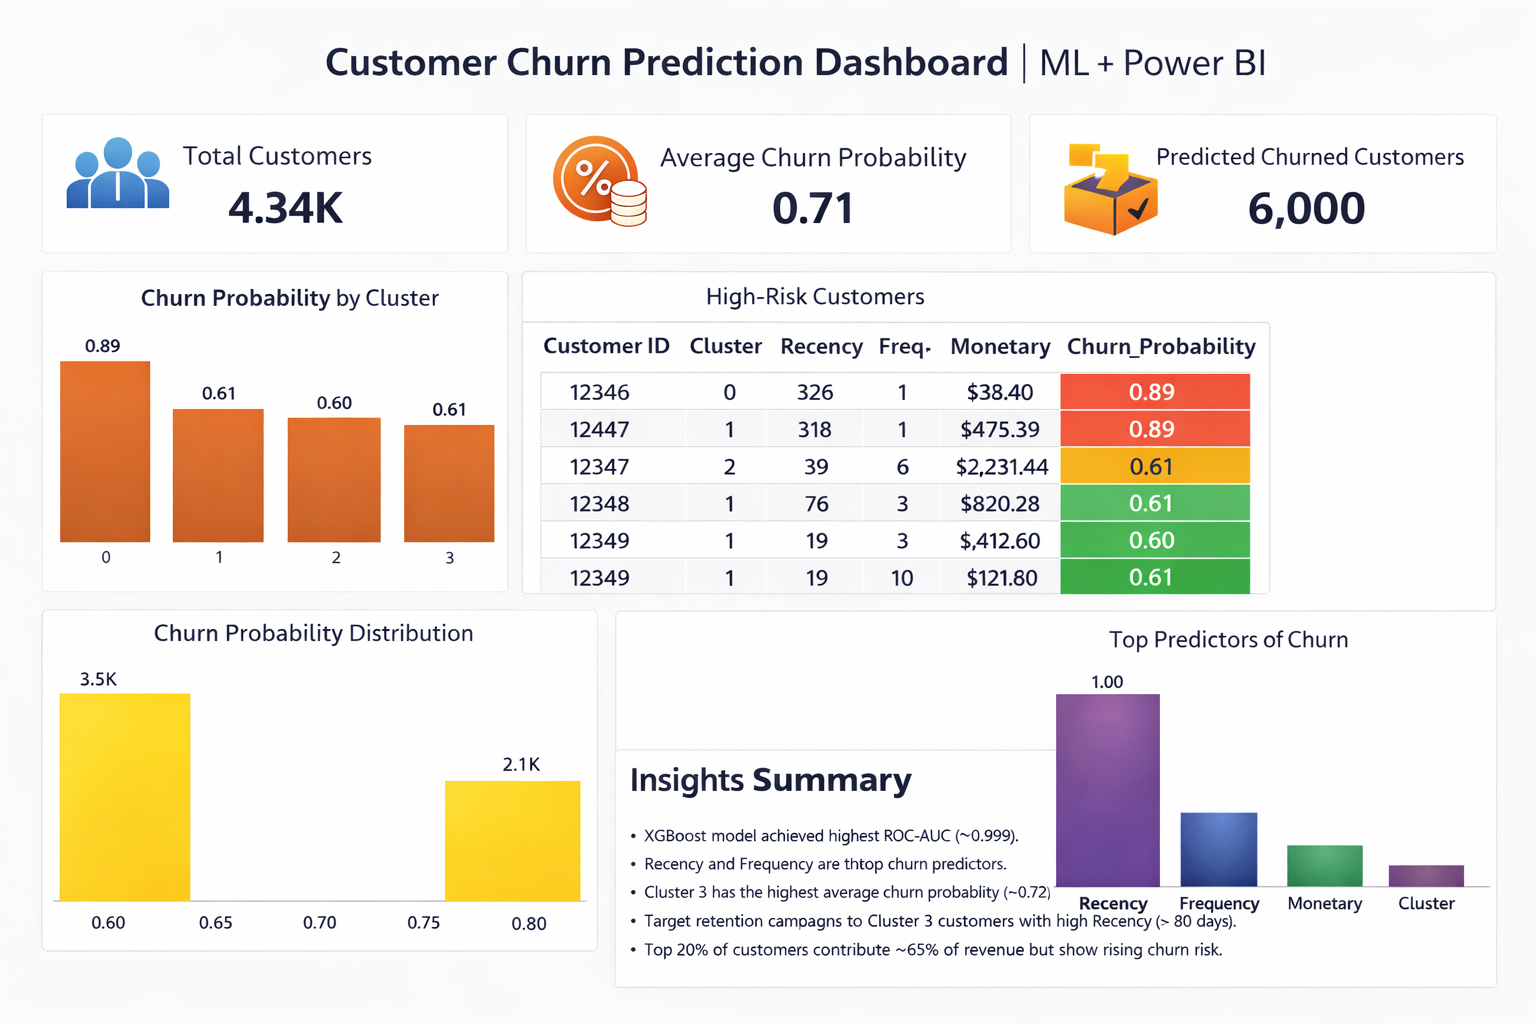

What the dashboard file says about the page in this screenshot:
{"tool":"powerbi","page":{"name":"Page 2","canvas":[1750,720],"ordinal":1},"visuals":[{"type":"shape","box":[0,0,1749.6,83.5],"z":0},{"type":"textbox","box":[378.2,11.3,1006.7,62.1],"z":1000},{"type":"cardVisual","fields":{"Data":["Count(churn_predictions_for_powerbi.CustomerID)","Avg(churn_predictions_for_powerbi.Churn_Probability)","Sum(churn_predictions_for_powerbi.Predicted_Churn)"]},"box":[0,82.8,1750,111],"z":2000},{"type":"columnChart","title":"Churn Probability by Cluster","fields":{"Category":["churn_predictions_for_powerbi.Cluster"],"Y":["Avg(churn_predictions_for_powerbi.Churn_Probability)"]},"box":[0,195.8,551.5,254.9],"z":3000},{"type":"tableEx","title":"High-Risk Customer Table","fields":{"Values":["churn_predictions_for_powerbi.CustomerID","churn_predictions_for_powerbi.Cluster","churn_predictions_for_powerbi.Recency","churn_predictions_for_powerbi.Frequency","churn_predictions_for_powerbi.Monetary","churn_predictions_for_powerbi.Churn_Probability"]},"box":[561.6,197.3,681.1,254.9],"z":4000},{"type":"actionButton","box":[0,0,100,40],"z":5000},{"type":"columnChart","title":"Feature Importance","fields":{"Category":["feature_importance.Feature"],"Y":["Sum(feature_importance.Importance)"]},"box":[1255.7,197.3,481,254.9],"z":6000},{"type":"columnChart","title":"Churn Probability Distribution","fields":{"Y":["CountNonNull(churn_predictions_for_powerbi.CustomerID)"],"Category":["churn_predictions_for_powerbi.Churn_Probability (bins)"]},"box":[0,460.8,551.5,254.9],"z":7000},{"type":"slicer","fields":{"Values":["churn_predictions_for_powerbi.Churn","churn_predictions_for_powerbi.Predicted_Churn"]},"box":[1488.4,0,261.6,82.8],"z":7001},{"type":"textbox","box":[563,459.4,1175,257.8],"z":7002}]}

Visuals, with their boxes on the page's 1750x720 design canvas (x1, y1, x2, y2). These are canvas units, not pixel positions in the 1536x1024 screenshot, which may show the page scaled, cropped or inside an application window:
shape: 0, 0, 1750, 84
textbox: 378, 11, 1385, 73
cardVisual - Count(churn_predictions_for_powerbi.CustomerID) x Avg(churn_predictions_for_powerbi.Churn_Probability): 0, 83, 1750, 194
"Churn Probability by Cluster" columnChart: 0, 196, 552, 451
"High-Risk Customer Table" tableEx: 562, 197, 1243, 452
actionButton: 0, 0, 100, 40
"Feature Importance" columnChart: 1256, 197, 1737, 452
"Churn Probability Distribution" columnChart: 0, 461, 552, 716
slicer - churn_predictions_for_powerbi.Churn x churn_predictions_for_powerbi.Predicted_Churn: 1488, 0, 1750, 83
textbox: 563, 459, 1738, 717
